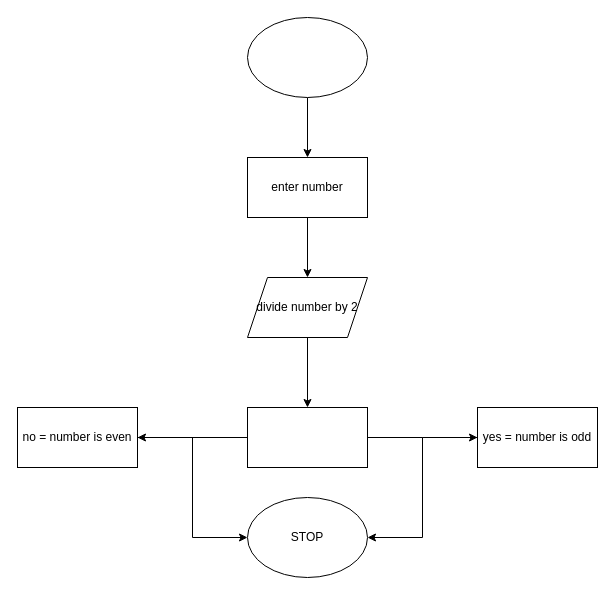
Some shapes in this 615 by 595 pixel diagram are drawn without their labels. Each missing label, with the centre of its shape:
"if there are decimals" goes at pixel 307 437.
"START" goes at pixel 307 57.
